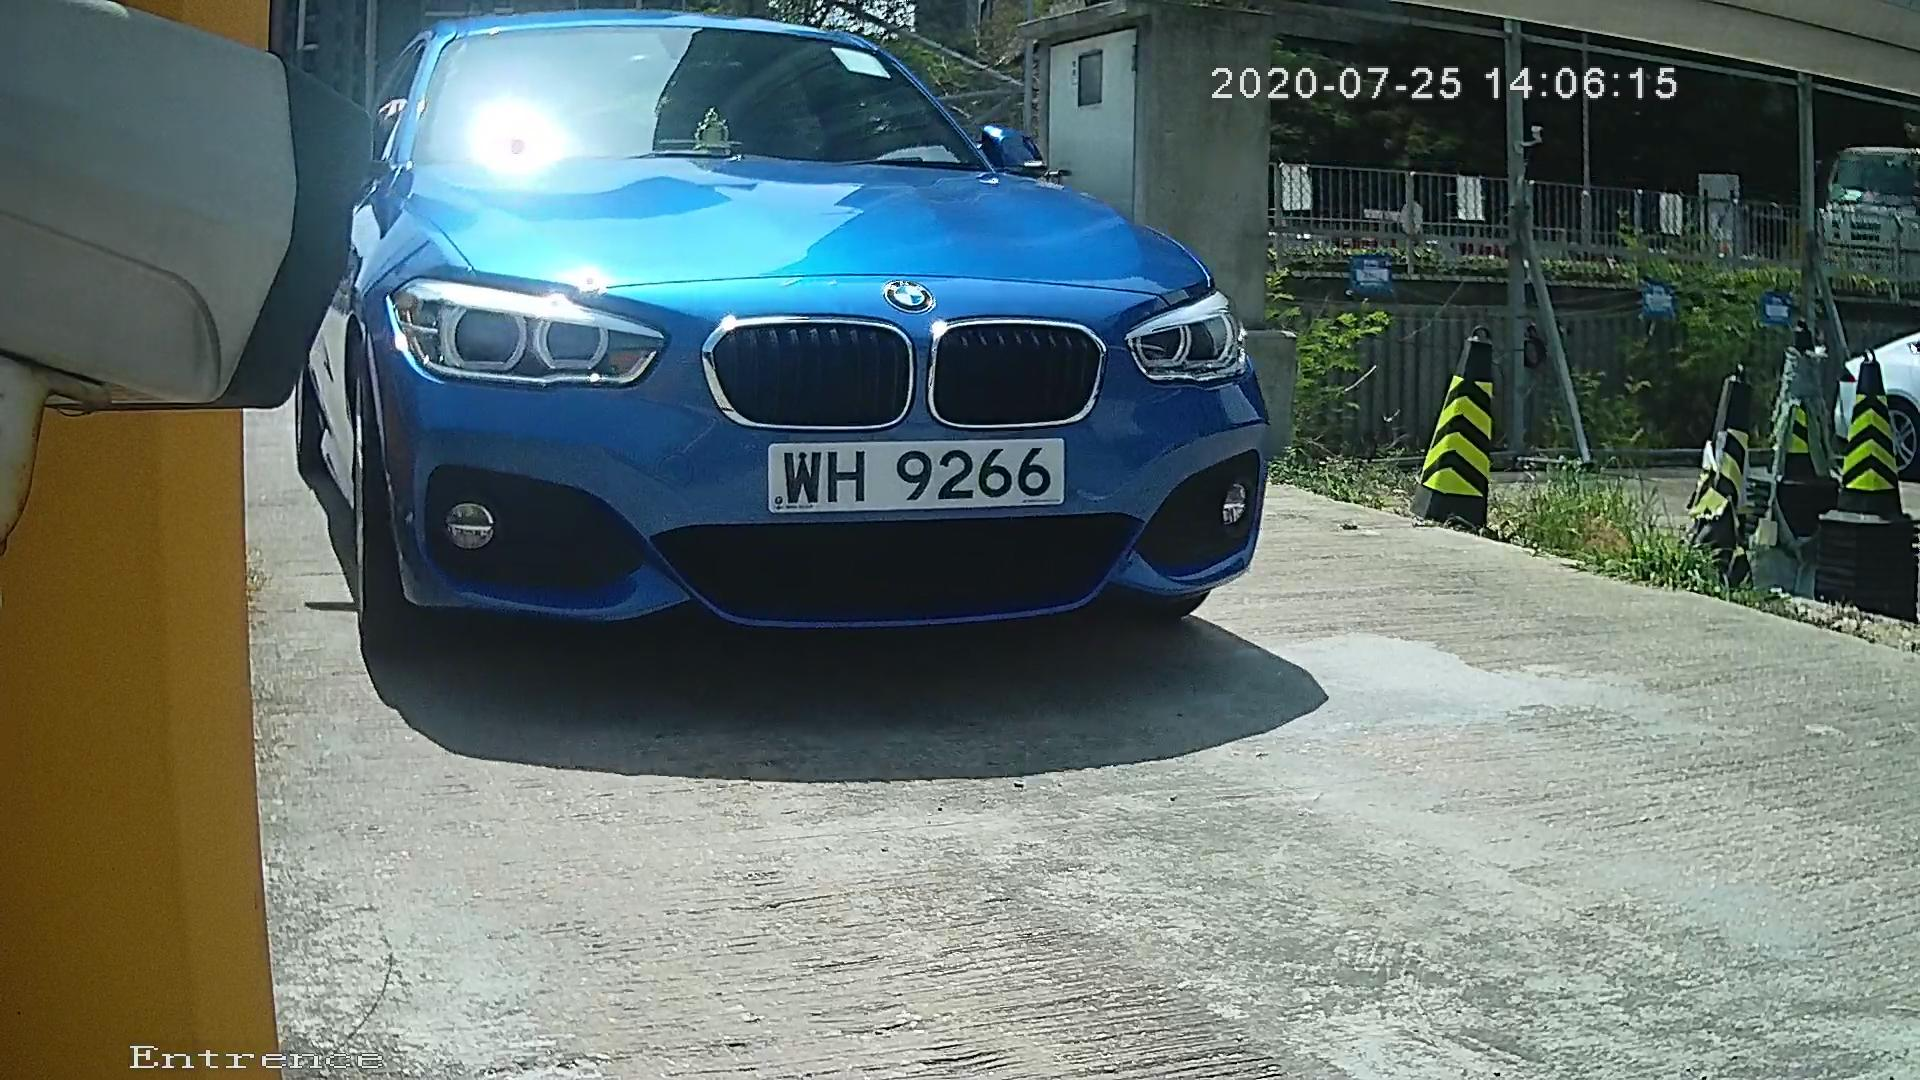Car: (155, 1, 1355, 738)
License Plate: (772, 430, 1081, 521)
